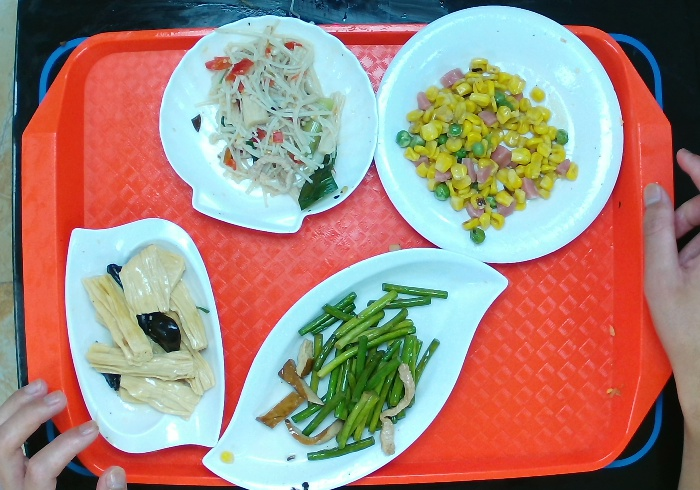RJxy-Bei_Ke_Wan: (157, 15, 378, 235)
RJxy-Jian_Jiao_Fang_Die: (66, 218, 228, 457)
RJxy-Jian_Jiao_Pan: (204, 239, 506, 490)
RJxy-Yuan_Pan: (367, 2, 626, 267)
